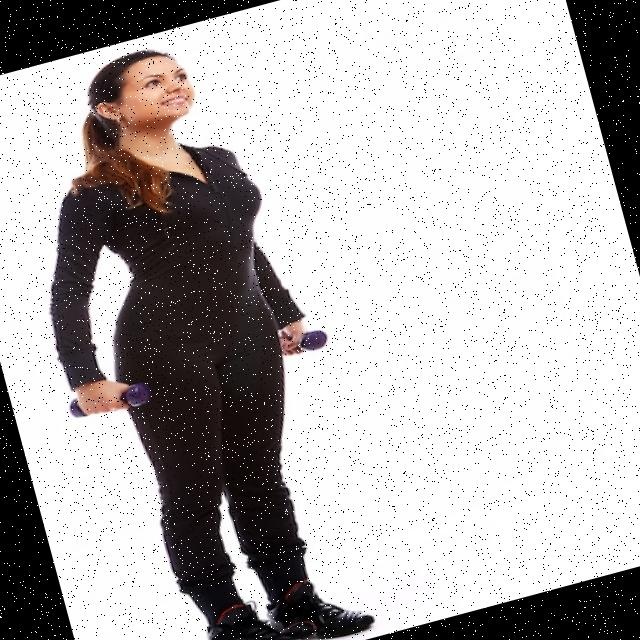Person: (0, 21, 402, 640)
